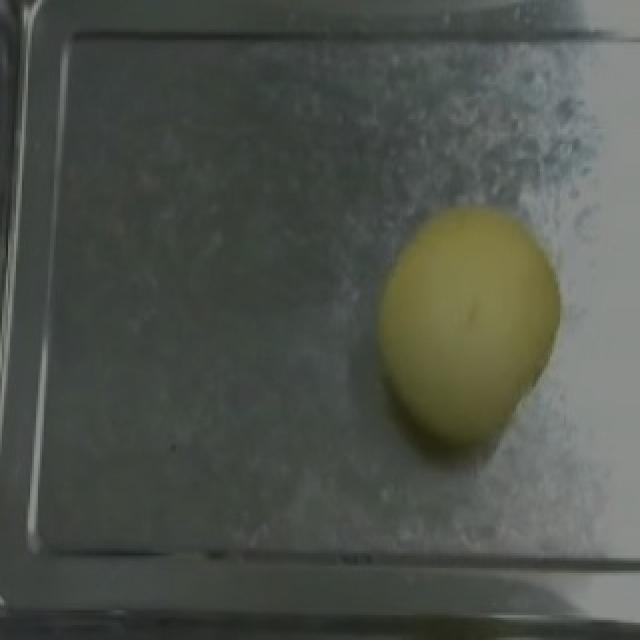Fruit: (356, 188, 576, 456)
